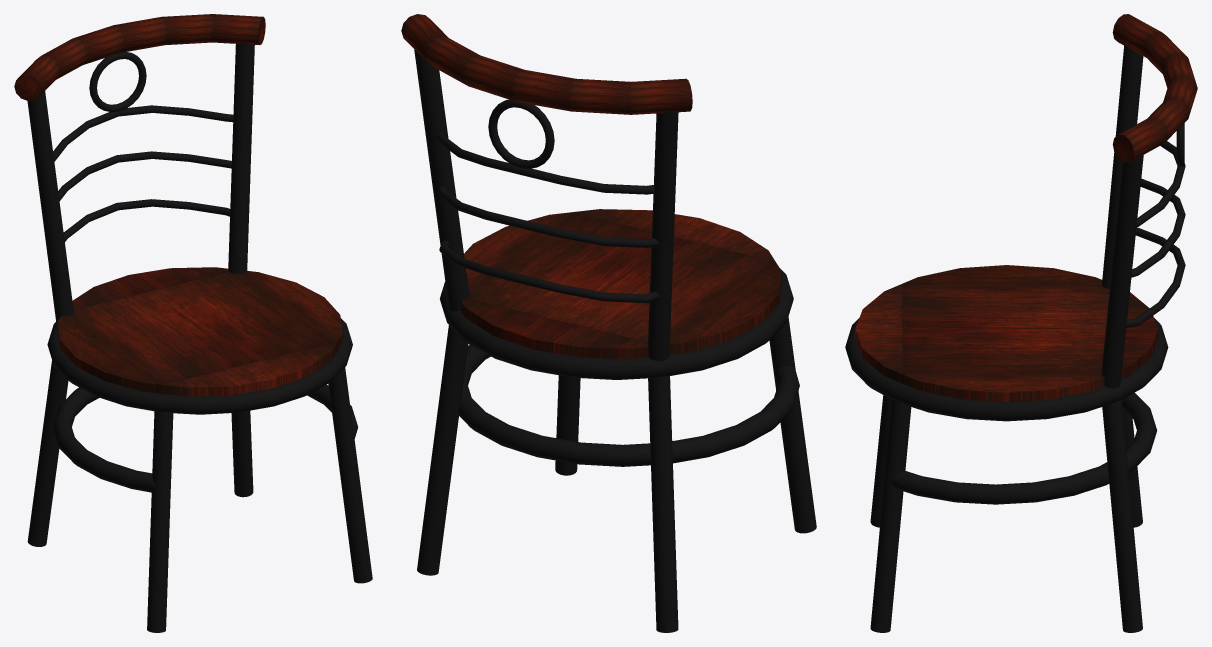
The model's file is chaise_cafette.FBX.
3 renders of one model, left to right at view 1: azimuth 30°, elevation 25°; view 2: azimuth 150°, elevation 25°; view 3: azimuth 270°, elevation 25°, orthographic. The views are drawn at different scales.
Visible parts, largest first — view 1: Cylinder004, Torus002, Torus001, Cylinder009, Cylinder010, Cylinder007, Cylinder008, Torus004, Cylinder005, Cylinder006, Torus005, Torus006 (+2 smaller); view 2: Cylinder004, Torus002, Torus004, Torus001, Cylinder005, Cylinder010, Cylinder006, Cylinder009, Cylinder007, Torus007, Torus006, Torus005 (+2 smaller); view 3: Cylinder004, Torus001, Torus004, Torus002, Cylinder006, Cylinder009, Cylinder008, Cylinder010, Cylinder007, Torus007, Torus006, Cylinder005 (+1 smaller).
Part boxes in pixels (x1,y1,x2,y2): Cylinder004: [57, 267, 342, 396]; Torus002: [14, 14, 265, 100]; Torus001: [47, 318, 352, 414]; Cylinder009: [228, 43, 254, 273]; Cylinder010: [27, 91, 73, 323]; Cylinder007: [147, 411, 173, 632]; Cylinder008: [328, 367, 372, 583]; Torus004: [52, 384, 358, 492]; Cylinder005: [27, 360, 68, 546]; Cylinder006: [231, 410, 253, 497]; Torus005: [53, 105, 233, 161]; Torus006: [58, 151, 231, 200]; Cylinder004: [461, 209, 781, 358]; Torus002: [401, 14, 692, 114]; Torus004: [458, 345, 799, 466]; Torus001: [440, 268, 793, 379]; Cylinder005: [648, 376, 678, 632]; Cylinder010: [648, 112, 678, 361]; Cylinder006: [417, 325, 468, 575]; Cylinder009: [414, 49, 469, 311]; Cylinder007: [769, 317, 816, 533]; Torus007: [439, 240, 659, 303]; Torus006: [438, 186, 659, 247]; Torus005: [437, 133, 654, 194]; Cylinder004: [855, 265, 1158, 401]; Torus001: [845, 318, 1168, 421]; Torus004: [890, 392, 1157, 504]; Torus002: [1112, 14, 1197, 162]; Cylinder006: [1102, 399, 1142, 632]; Cylinder009: [1101, 154, 1143, 388]; Cylinder008: [870, 399, 911, 632]; Cylinder010: [1102, 45, 1143, 288]; Cylinder007: [870, 395, 891, 527]; Torus007: [1125, 227, 1185, 327]; Torus006: [1131, 178, 1185, 277]; Cylinder005: [1122, 409, 1142, 527].
Bounding box in the file's own units: 32 × 54.9 × 34.92.
Materials: 2 (1 with a texture image).
